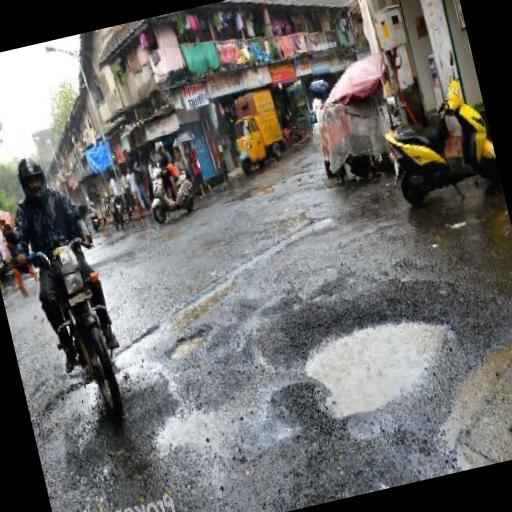pothole: (280, 270, 468, 424), (161, 322, 213, 362)
